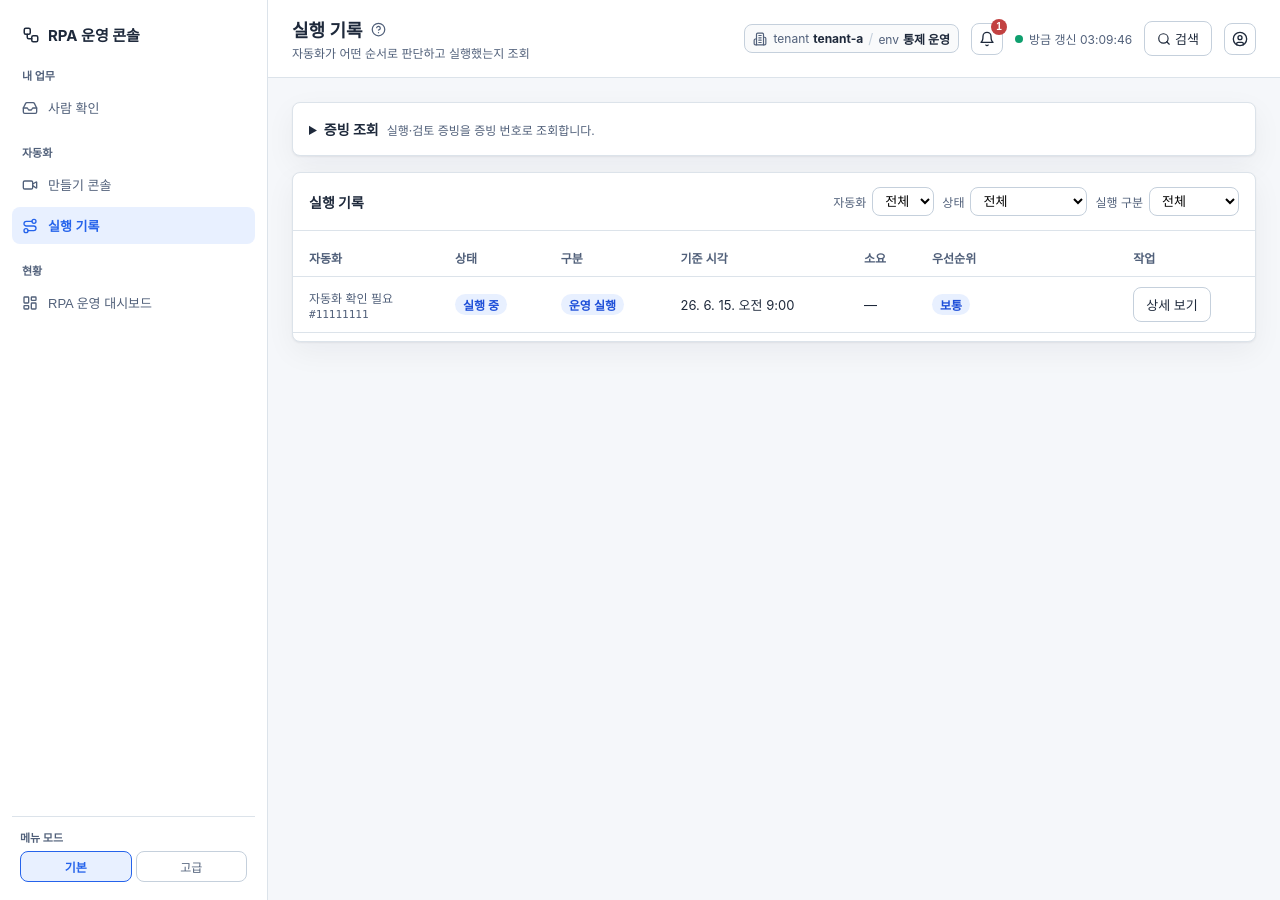
단계 트레이스 — 셀프힐링 서사 (B) › B3: 카드 기본 보기 — 동작 한국어 라벨 + AI 모델·토큰·비용·첫응답
What coordinates should you click on to do the following:
click the button with aria-label "실행 추적 상세 보기"
I would click on:
 (1172, 304)
Its box is [1133, 287, 1211, 322].
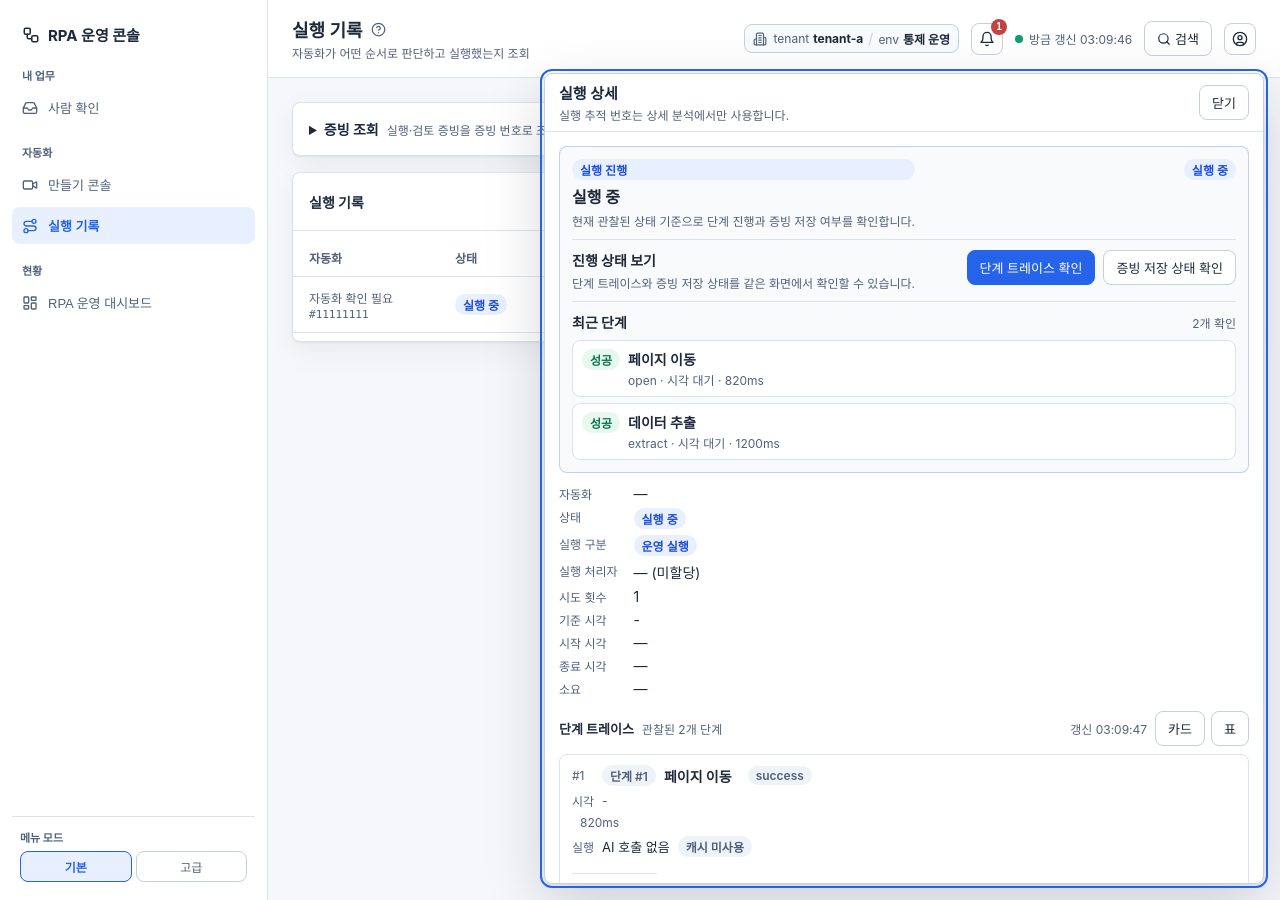
expect the text "페이지 이동" next to "단계 #1" is shown: met, box [664, 768, 732, 784]
expect the text "AI 호출 없음" is shown: met, box [602, 837, 670, 856]
